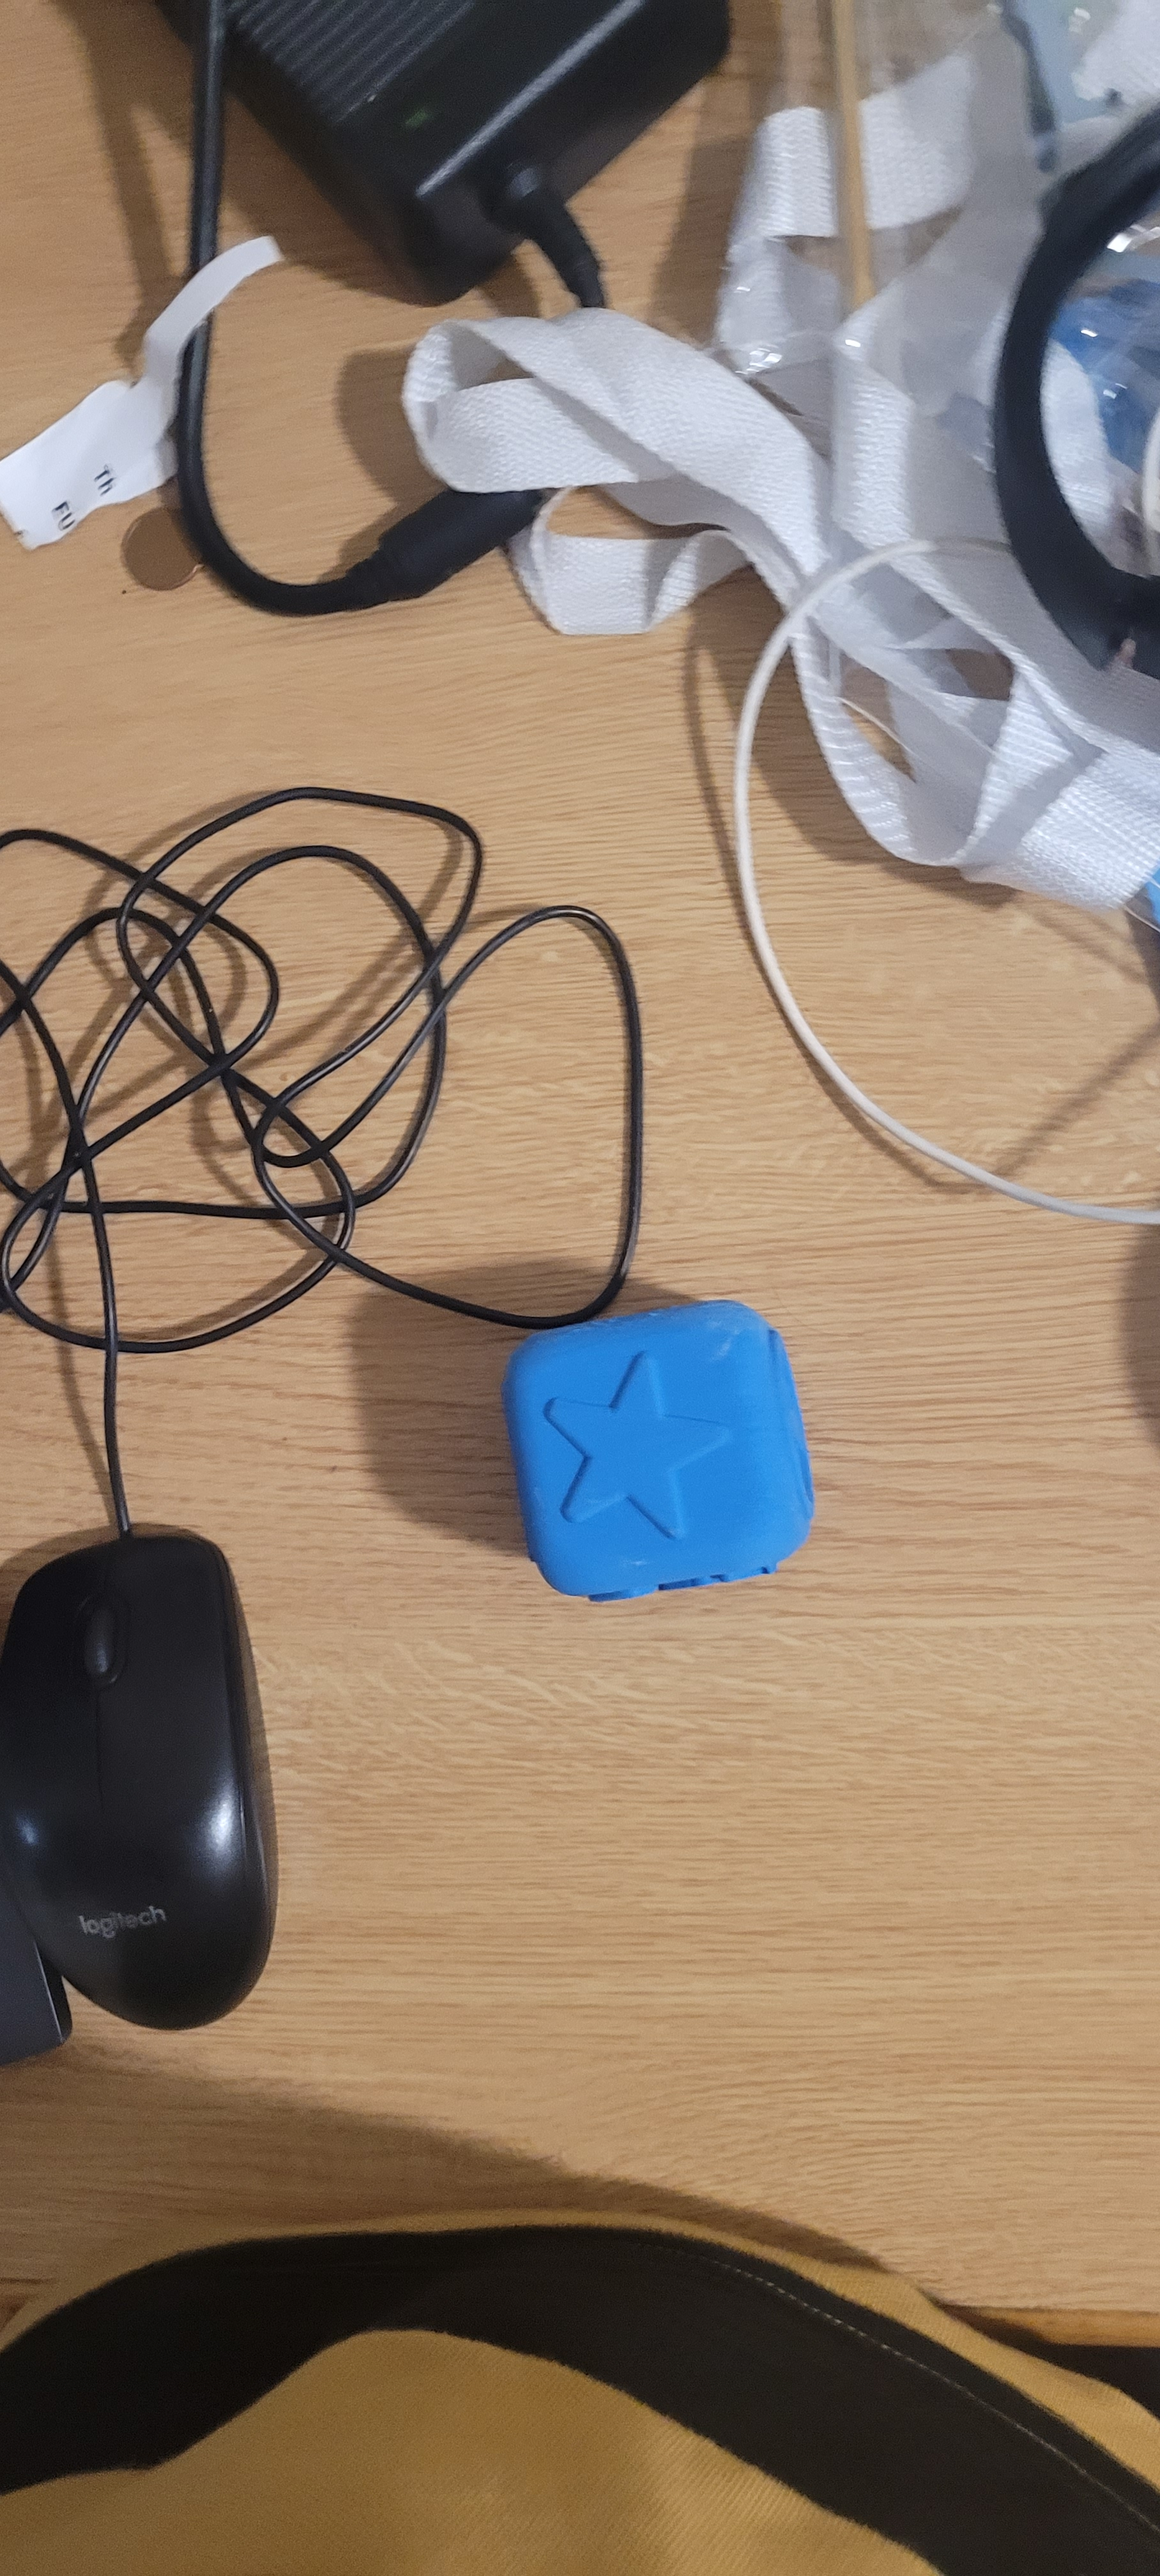Star: (526, 1354, 777, 1556)
